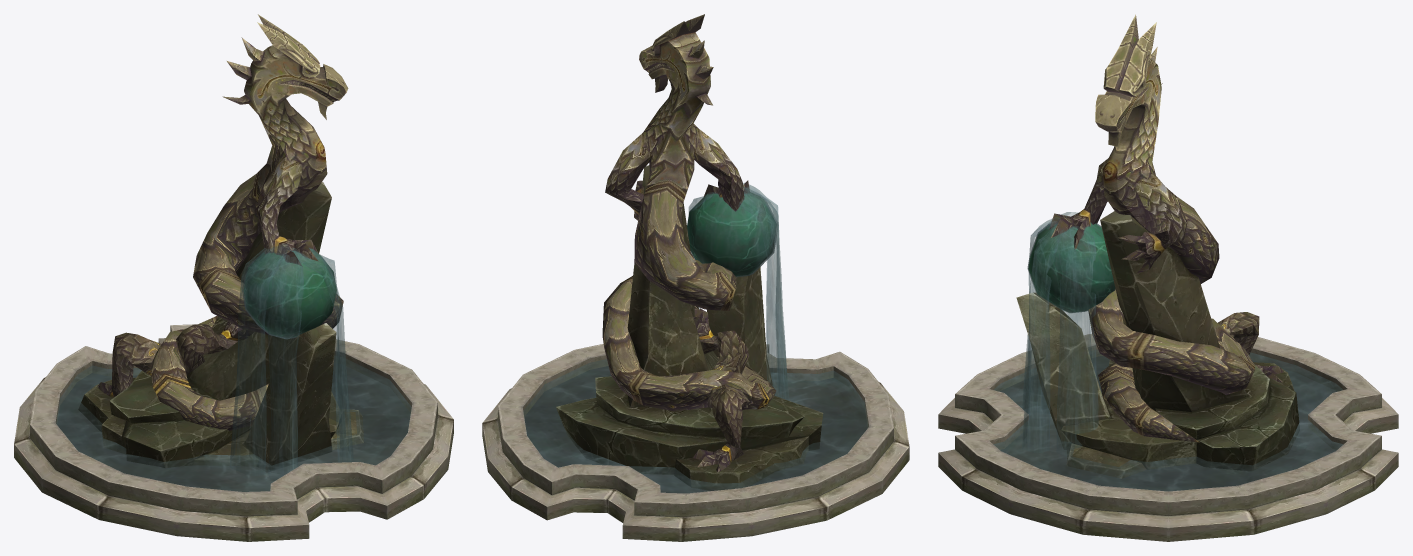
3 views of the same model, side by side, from view 1: azimuth 30°, elevation 25°; view 2: azimuth 150°, elevation 25°; view 3: azimuth 270°, elevation 25° (orthographic). The views are drawn at different scales.
Size of the model in its own units: 14.29 by 15.42 by 14.73.
Materials: 7 (7 with a texture image).
